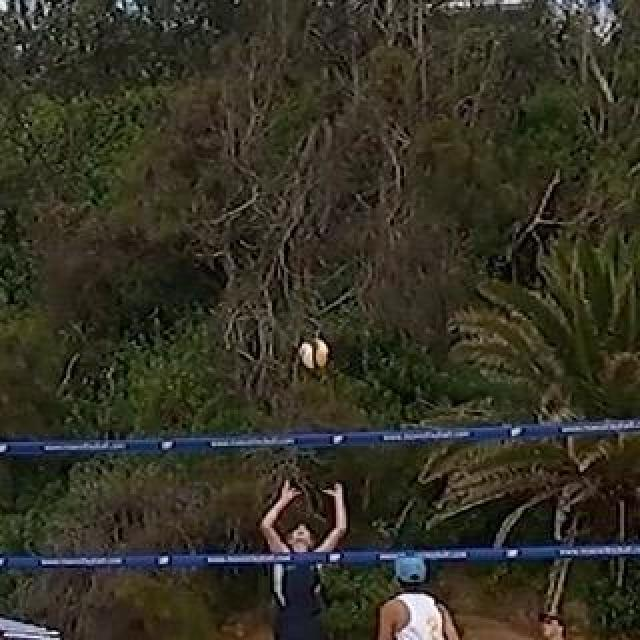volleyball: (299, 340, 327, 368)
